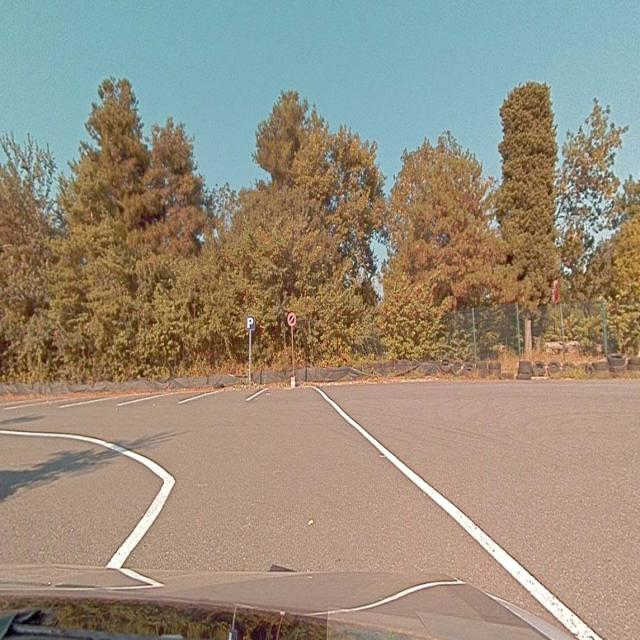park: (247, 316, 256, 329)
parkyasak: (287, 313, 296, 326)
